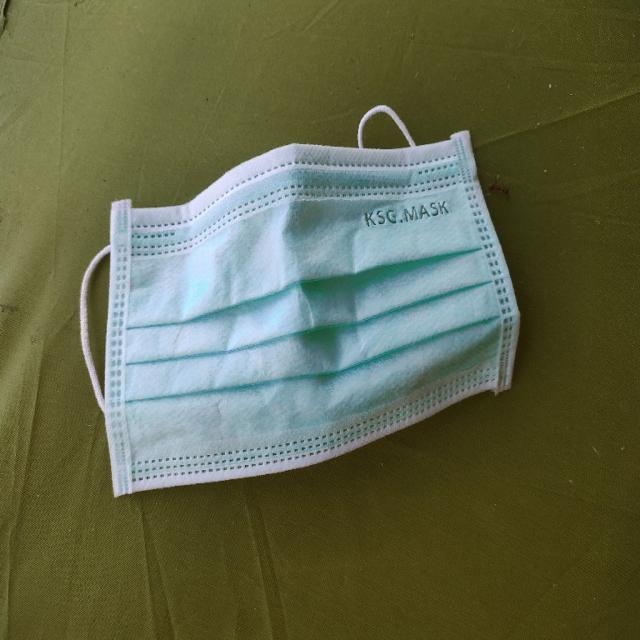face mask: (89, 109, 522, 488)
